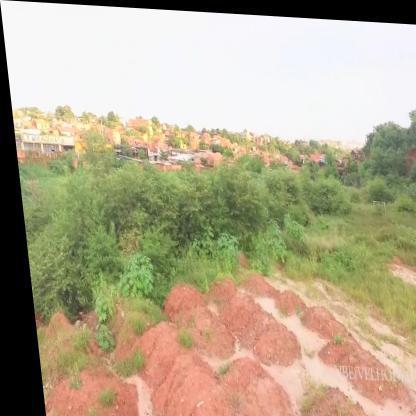agua: (262, 357, 333, 397), (277, 305, 315, 349), (199, 351, 243, 364), (249, 289, 272, 311)
